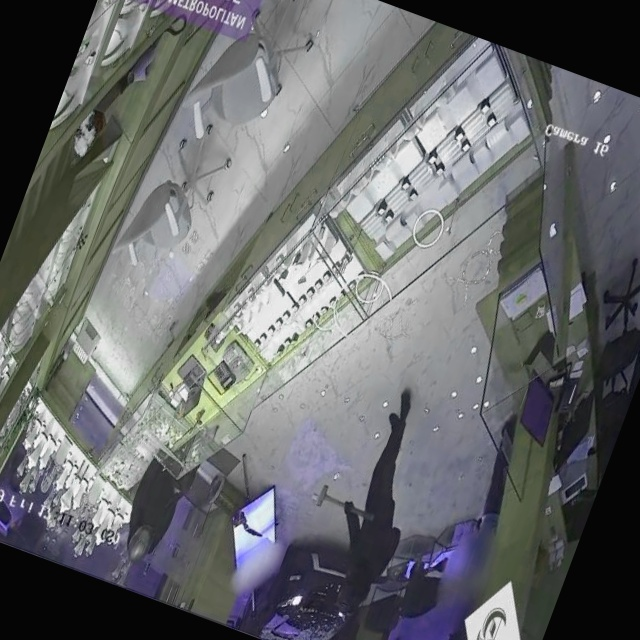gun: (297, 472, 397, 542)
